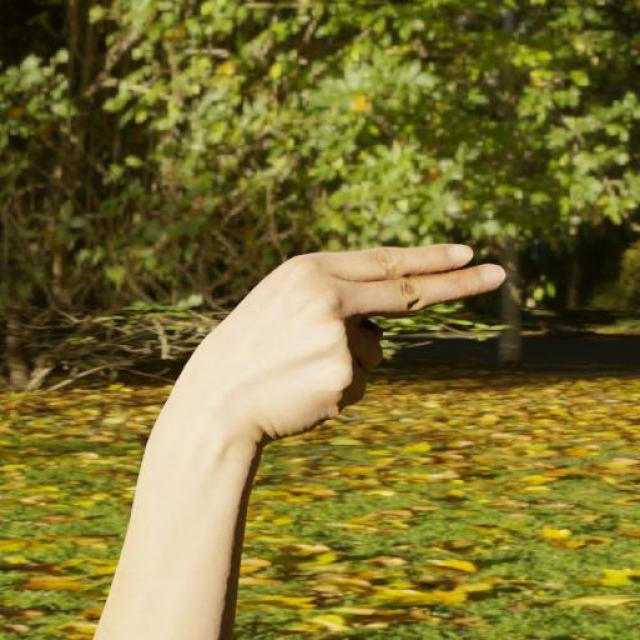H: (128, 233, 533, 452)
